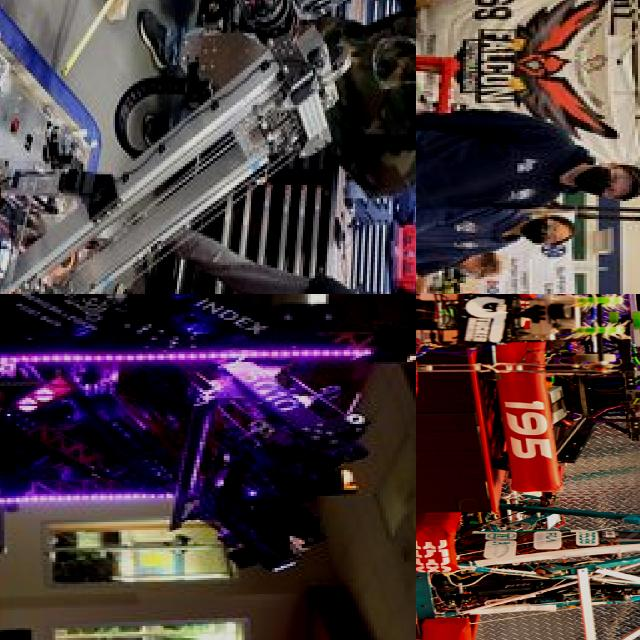FRC-Robots: (0, 294, 383, 640), (0, 0, 346, 294), (416, 494, 640, 640), (484, 294, 640, 500), (416, 294, 639, 433)
